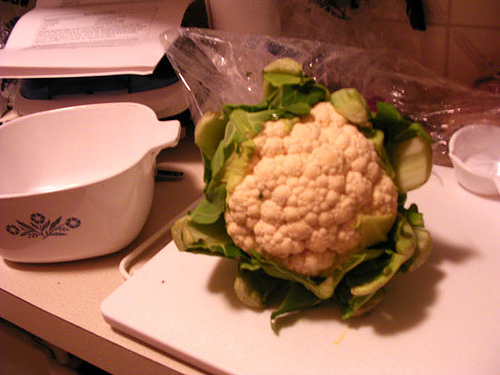cauliflower: (169, 55, 433, 336)
